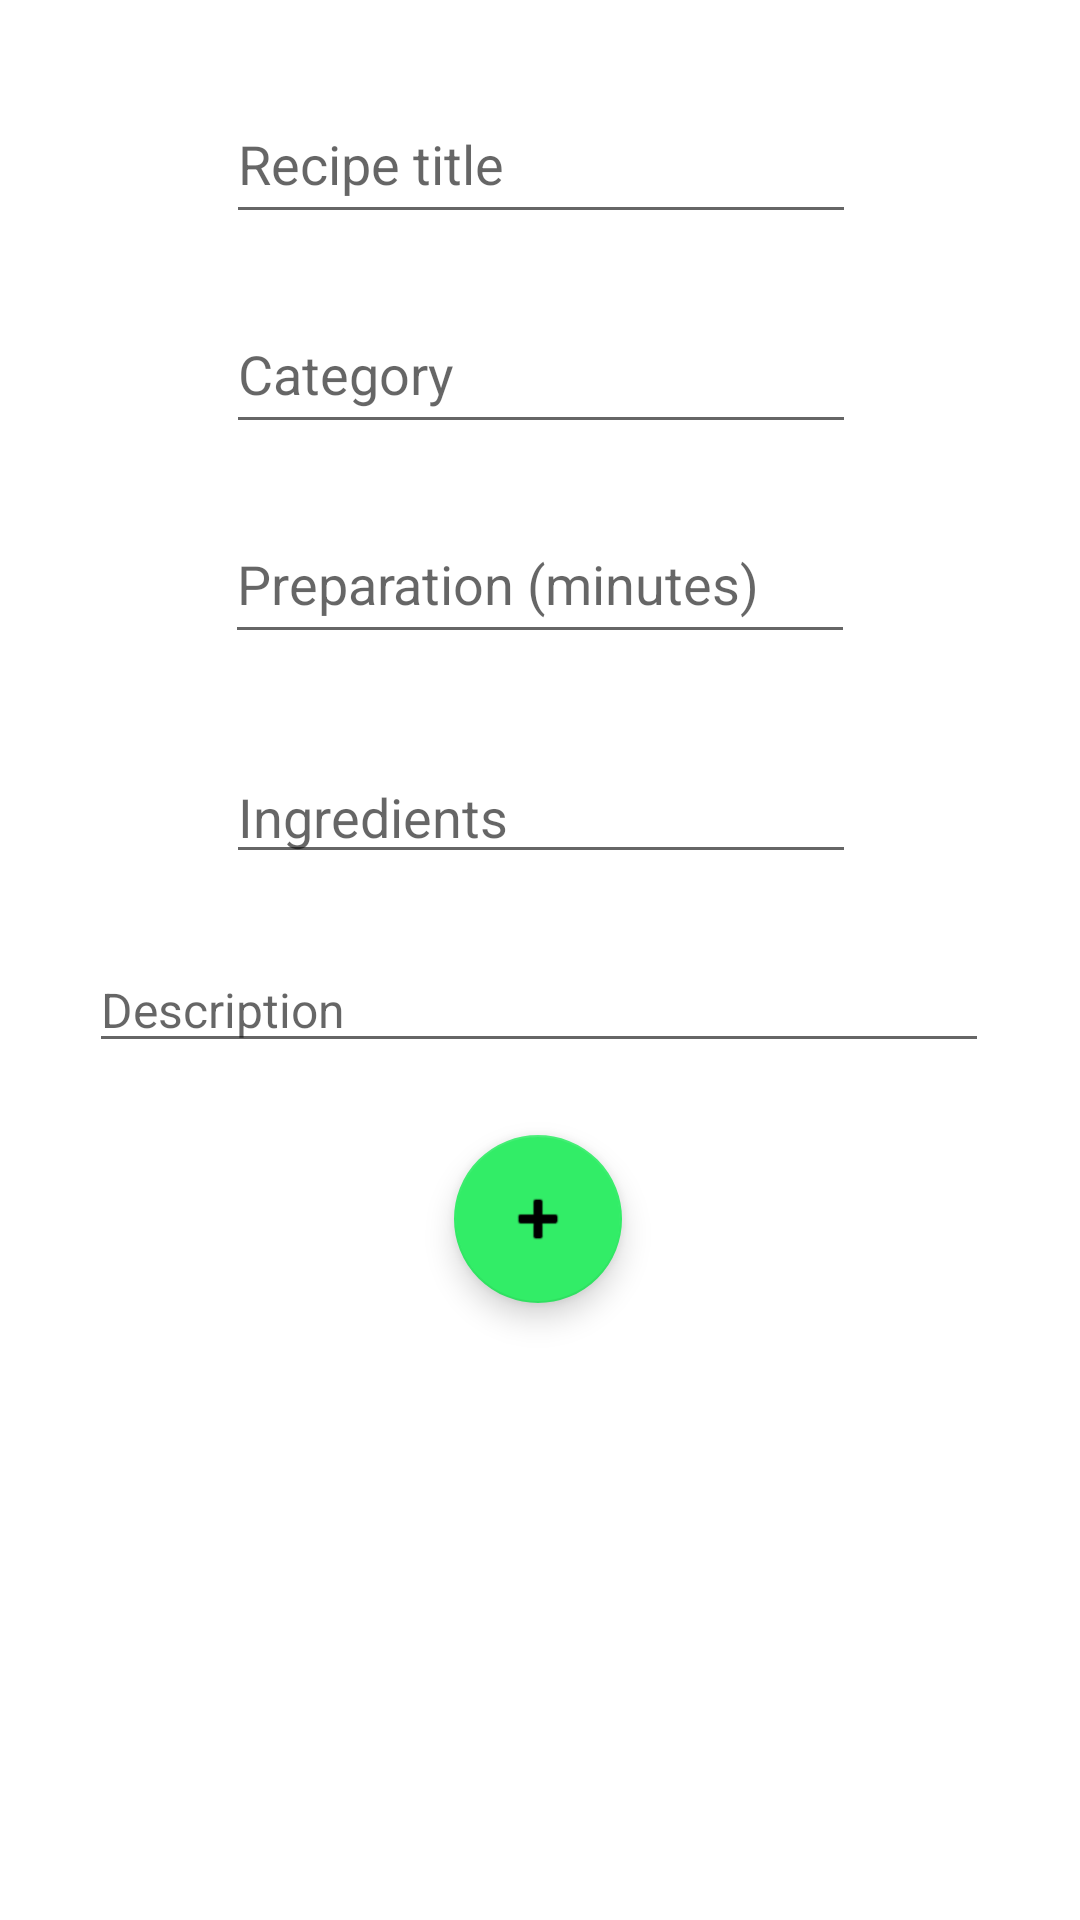

Screen size 1080 x 1920. Icon name, then its center in pixels as (x,y):
add: (538,1219)
